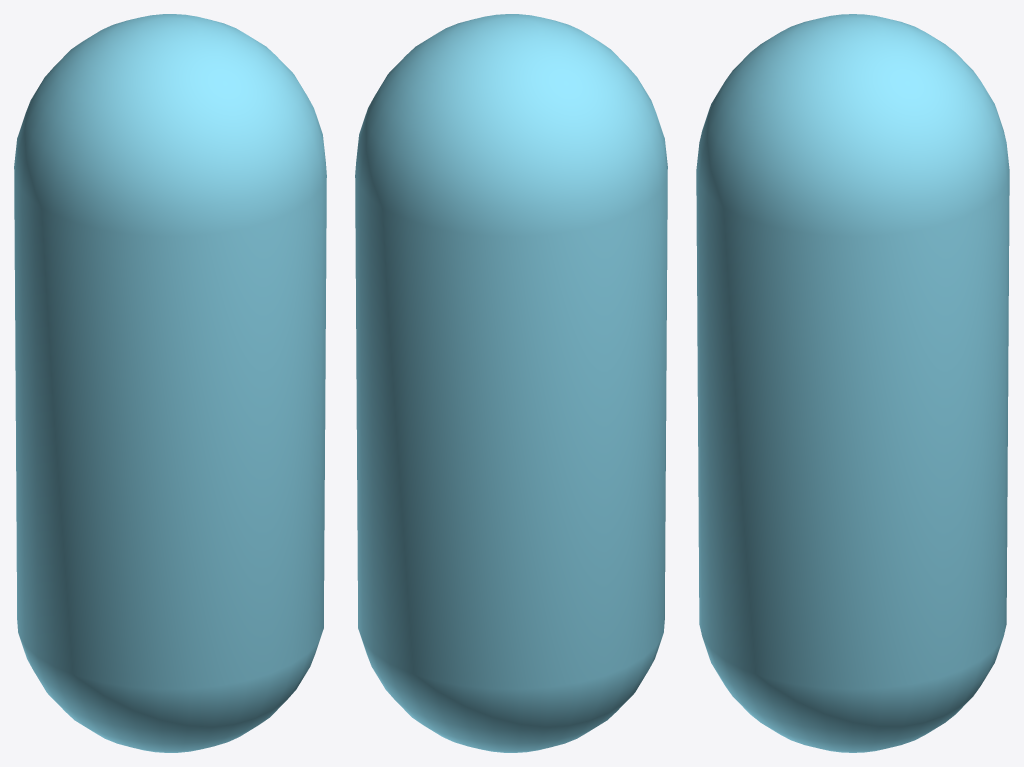
Rendered from GoalBarrier.gltf.
3 renders of one model, left to right at view 1: azimuth 30°, elevation 25°; view 2: azimuth 150°, elevation 25°; view 3: azimuth 270°, elevation 25°, orthographic.
Visible parts, largest first — view 1: Sphere; view 2: Sphere; view 3: Sphere.
Part boxes in pixels (x1=…): Sphere: x1=14, y1=14, x2=326, y2=752; Sphere: x1=355, y1=14, x2=667, y2=752; Sphere: x1=696, y1=14, x2=1009, y2=752.
Size of the model in its own units: 2 by 5 by 2.
